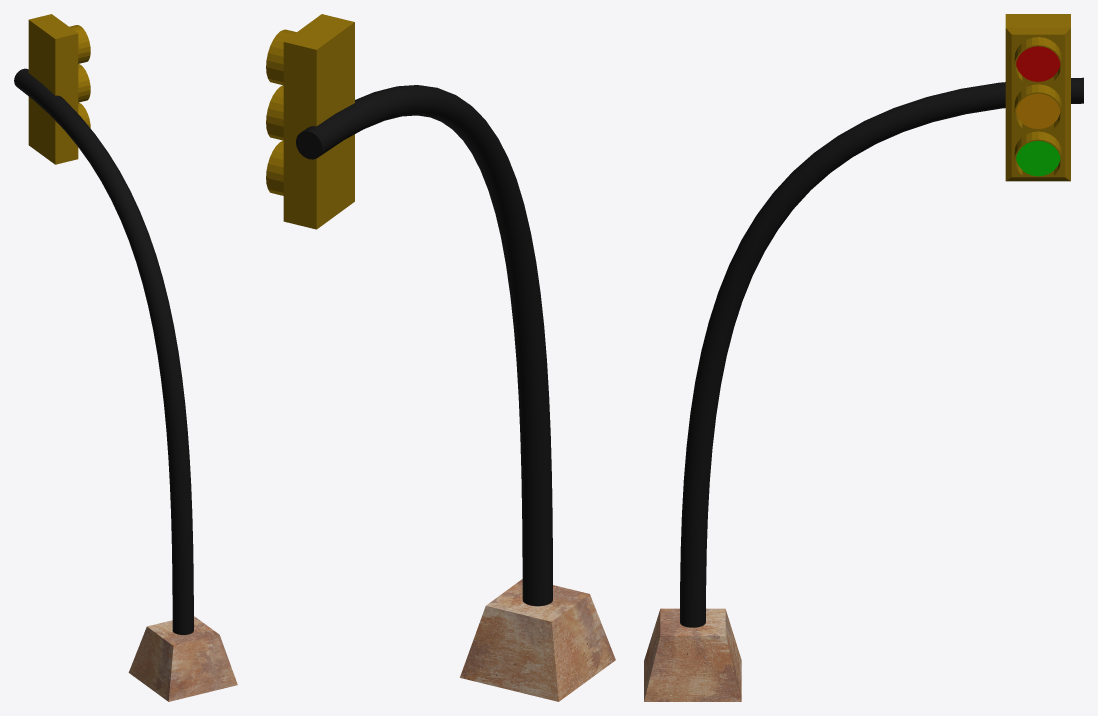
Rendered from Semaforo.obj.
3 renders of one model, left to right at view 1: azimuth 30°, elevation 25°; view 2: azimuth 150°, elevation 25°; view 3: azimuth 270°, elevation 25°, orthographic. The views are drawn at different scales.
Parts seen in each view (by area): view 1: Semaforo_^_^_Pole, Semaforo_^_^_Semaforo, Semaforo_^_^_Concrete.001; view 2: Semaforo_^_^_Pole, Semaforo_^_^_Semaforo, Semaforo_^_^_Concrete.001; view 3: Semaforo_^_^_Pole, Semaforo_^_^_Concrete.001, Semaforo_^_^_Semaforo, Semaforo_^_^_Luz_Roja, Semaforo_^_^_Yellow_Light, Semaforo_^_^_Green_Light.
Boxes of the visible parts, left/top/right/bottom form: Semaforo_^_^_Pole: left=14, top=68, right=193, bottom=634; Semaforo_^_^_Semaforo: left=28, top=14, right=90, bottom=164; Semaforo_^_^_Concrete.001: left=128, top=616, right=237, bottom=701; Semaforo_^_^_Pole: left=296, top=85, right=552, bottom=606; Semaforo_^_^_Semaforo: left=266, top=14, right=354, bottom=229; Semaforo_^_^_Concrete.001: left=460, top=579, right=615, bottom=701; Semaforo_^_^_Pole: left=680, top=77, right=1083, bottom=627; Semaforo_^_^_Concrete.001: left=644, top=608, right=741, bottom=701; Semaforo_^_^_Semaforo: left=1005, top=14, right=1070, bottom=181; Semaforo_^_^_Luz_Roja: left=1016, top=46, right=1060, bottom=81; Semaforo_^_^_Yellow_Light: left=1016, top=93, right=1060, bottom=128; Semaforo_^_^_Green_Light: left=1016, top=141, right=1060, bottom=176.
Bounding box in the file's own units: 1.59 × 11.3 × 6.75.
